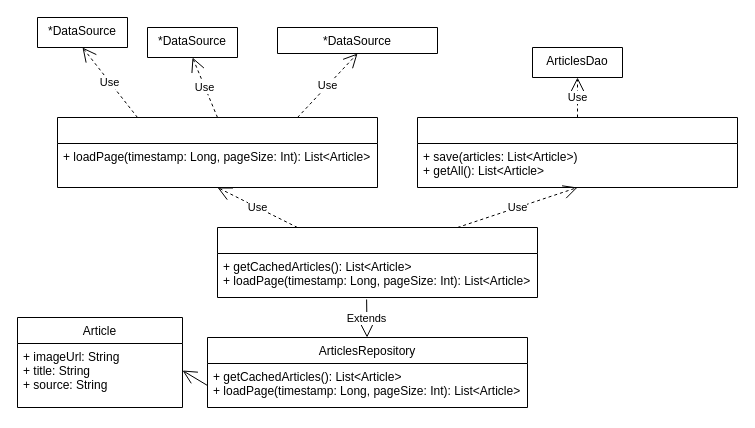
Image size: 755x428. Some labels were removed from this diagram. Each missing label, with the box of its shape:
ArticlesLocalDataStore: (416, 116, 738, 188)
ArticlesRemoteRepository: (56, 116, 378, 188)
ArticlesRepositoryImpl: (216, 226, 538, 298)
